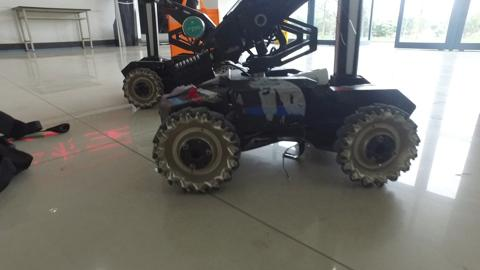chariot: (144, 1, 425, 186)
